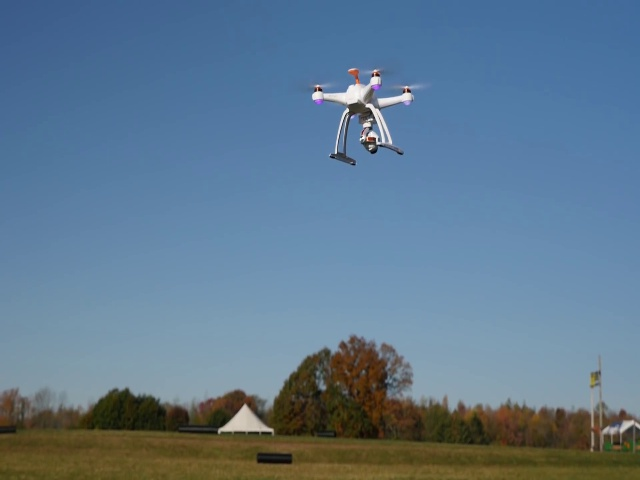drone: (292, 58, 435, 169)
